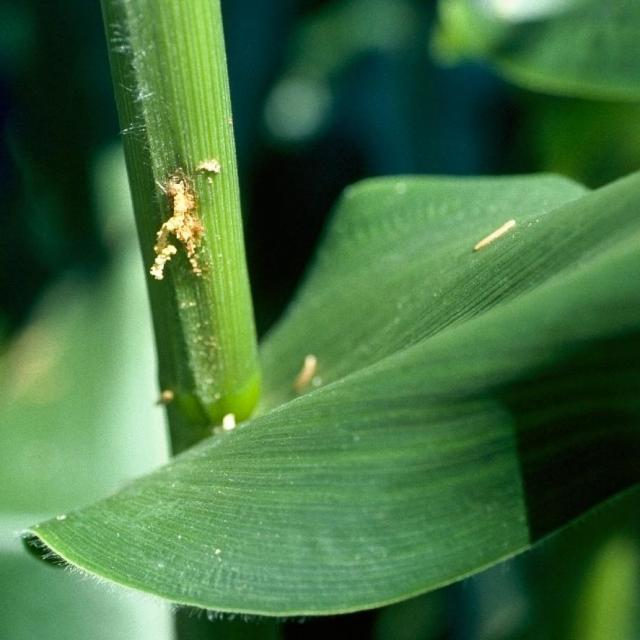cornborer-Larva-: (468, 215, 522, 255)
